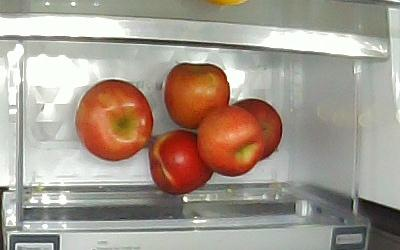apple: (77, 80, 155, 161), (198, 106, 267, 177), (165, 63, 232, 130), (148, 131, 213, 195), (232, 98, 283, 161)
